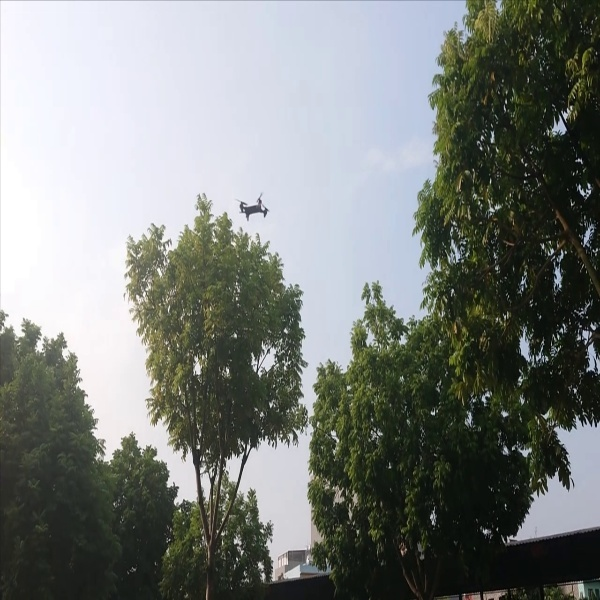drone: (234, 192, 274, 222)
